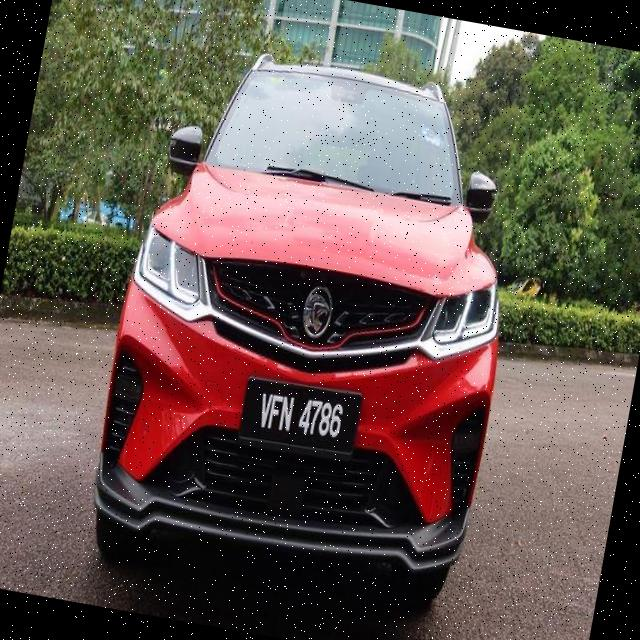License_Plate: (230, 370, 372, 467)
car: (34, 2, 613, 640)
